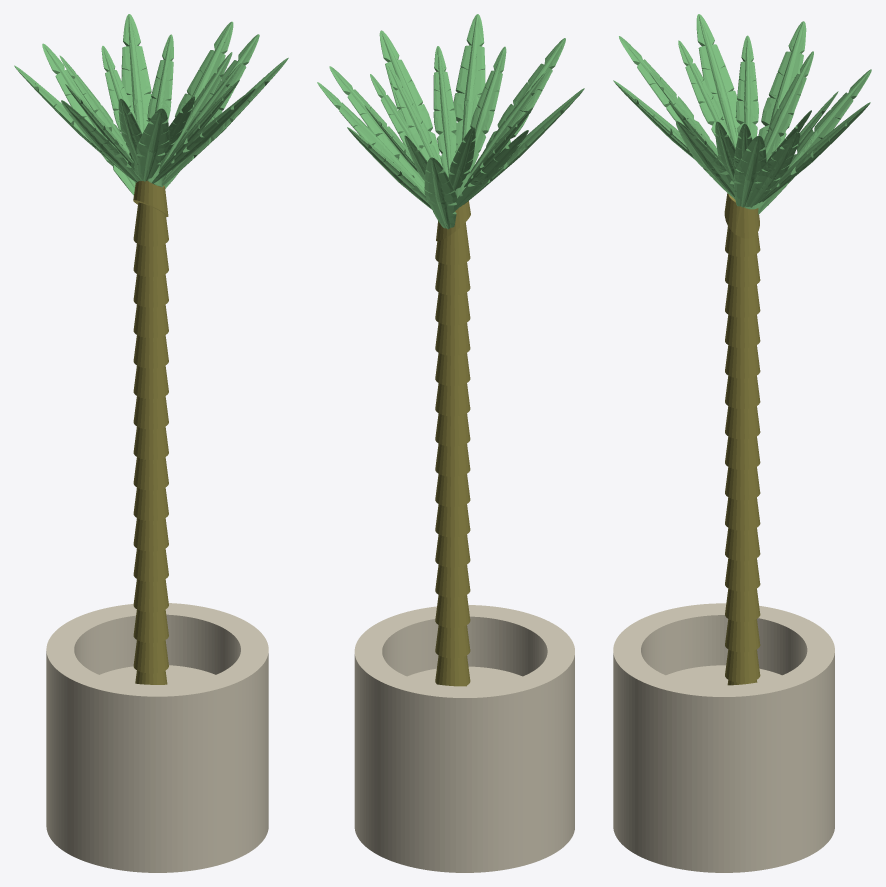
The model's file is Mighty Leelo.glb.
3 renders of one model, left to right at view 1: azimuth 30°, elevation 25°; view 2: azimuth 150°, elevation 25°; view 3: azimuth 270°, elevation 25°, orthographic.
Visible parts, largest first — view 1: Mesh_Mesh_head_geo.001_lambert2SG.001; view 2: Mesh_Mesh_head_geo.001_lambert2SG.001; view 3: Mesh_Mesh_head_geo.001_lambert2SG.001.
Boxes of the visible parts, left/top/right/bottom form: Mesh_Mesh_head_geo.001_lambert2SG.001: left=14, top=14, right=288, bottom=872; Mesh_Mesh_head_geo.001_lambert2SG.001: left=317, top=14, right=584, bottom=872; Mesh_Mesh_head_geo.001_lambert2SG.001: left=613, top=14, right=871, bottom=872.
Bounding box in the file's own units: 0.0189 × 0.061 × 0.0186.
